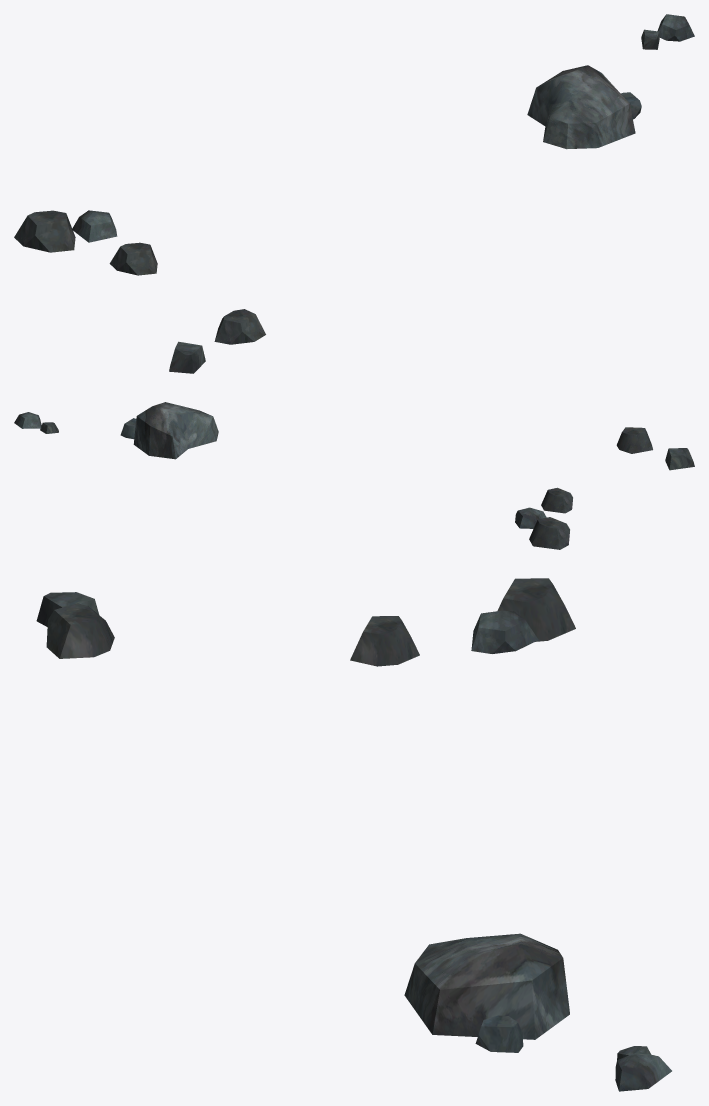
Rendered from object_rubble07.fbx.
3 renders of one model, top to bottom at view 1: azimuth 30°, elevation 25°; view 2: azimuth 150°, elevation 25°; view 3: azimuth 270°, elevation 25°, orthographic. The views are drawn at different scales.
Visible parts, largest first — view 1: Material_#238683587/cliffside; view 2: Material_#238683587/cliffside; view 3: Material_#238683587/cliffside.
Part boxes in pixels (x1,y1,x2,y2): Material_#238683587/cliffside: (14,14,694,373); Material_#238683587/cliffside: (14,402,694,549); Material_#238683587/cliffside: (36,578,671,1091).
Size of the model in its own units: 9.72 by 0.7009 by 5.01.
